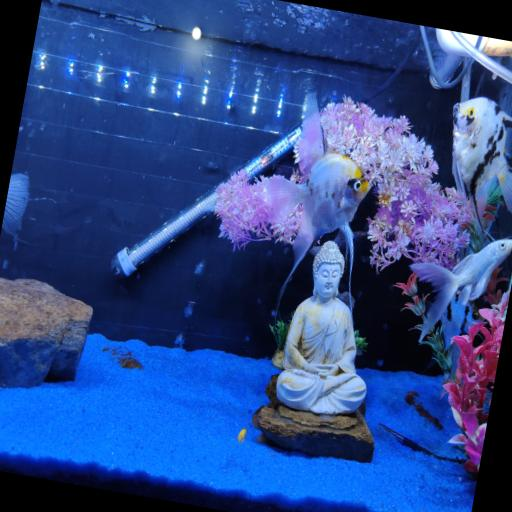Fish: (265, 94, 369, 306), (410, 239, 511, 342), (453, 97, 511, 222), (440, 291, 481, 349), (2, 174, 29, 235), (174, 333, 185, 348), (237, 427, 246, 443)
